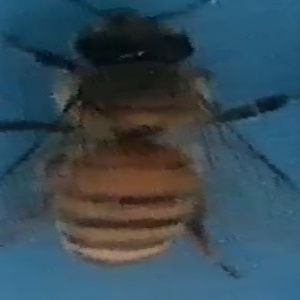bee: (13, 4, 297, 280)
